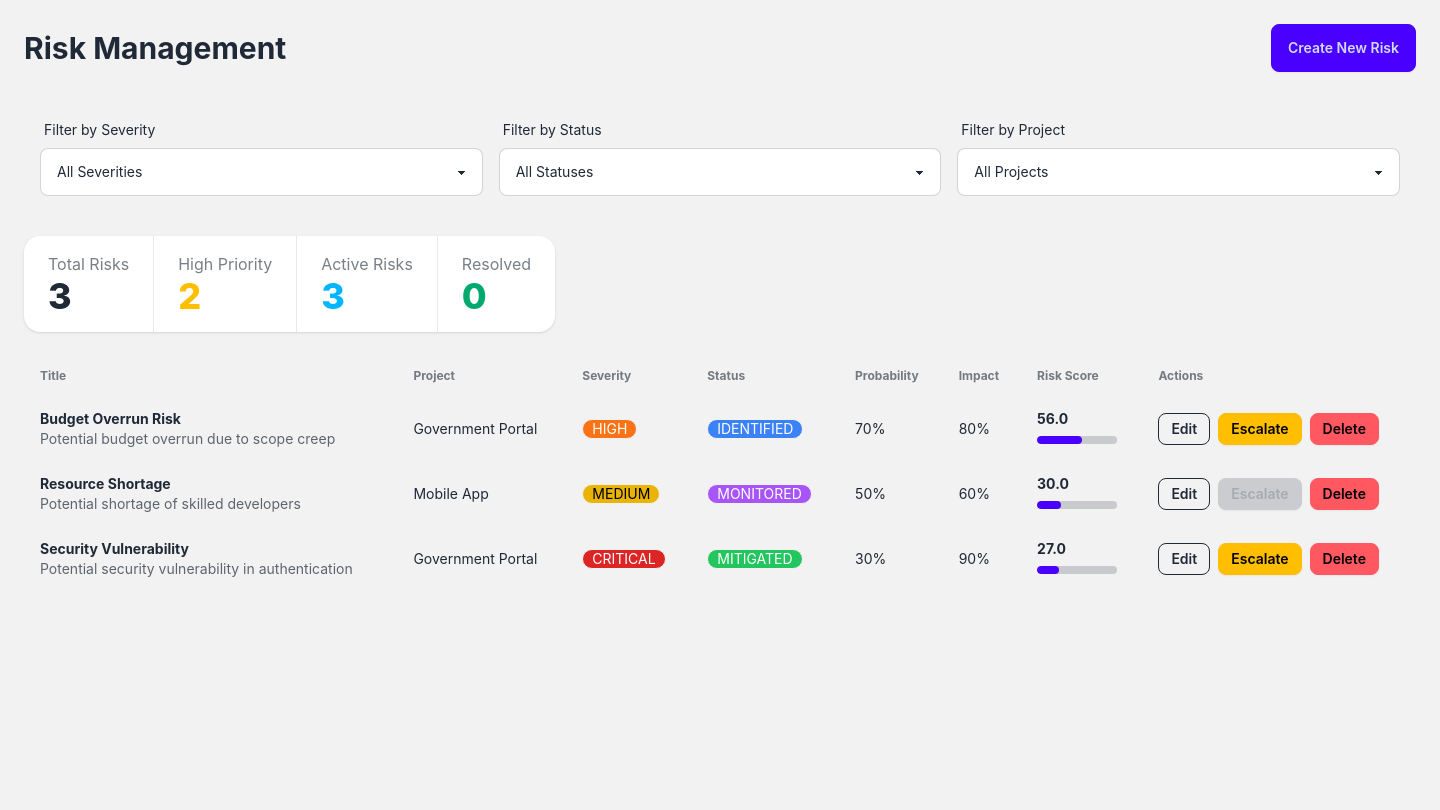
Test: RiskManagement Component › opens create risk modal when create button is clicked
Click the button "Create New Risk" at (1343, 48), box [1271,24,1416,72]
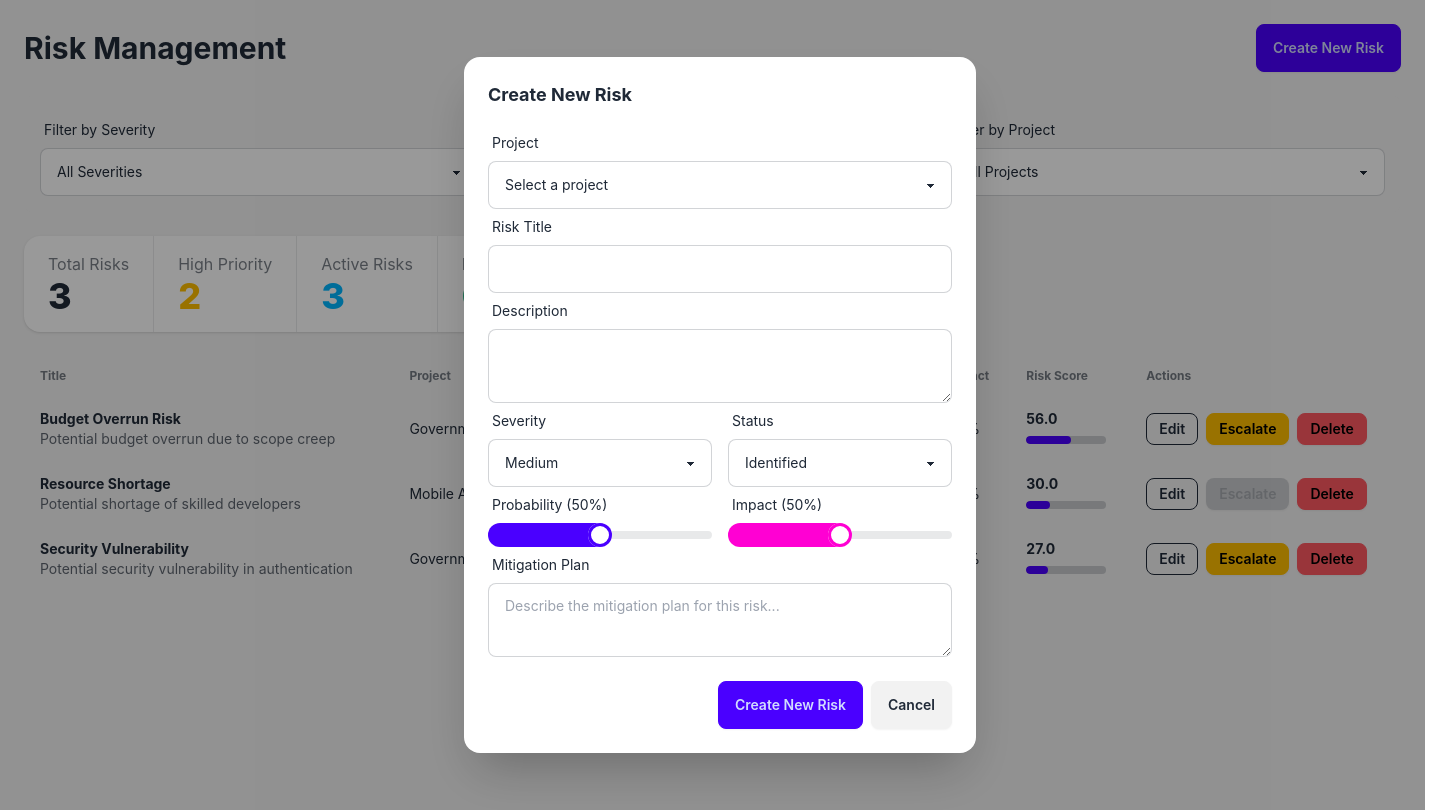
Expected: the heading "Create New Risk" is shown, [488,84,632,105]
Expected: the dropdown labelled "Project" is shown, [488,161,952,209]
Expected: the field labelled "Risk Title" is shown, [488,245,952,293]
